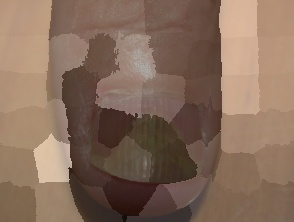Nail_psoriasis: (96, 100, 201, 189)
